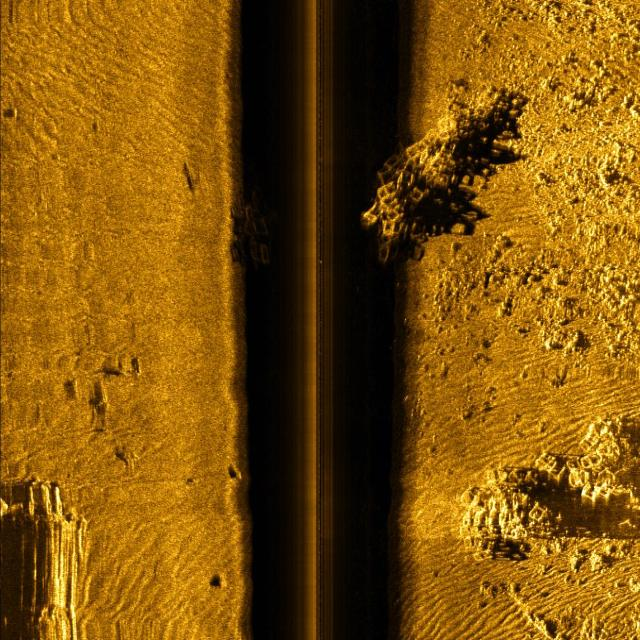artificial reef: (364, 96, 522, 268), (460, 424, 624, 544), (230, 183, 294, 290)
